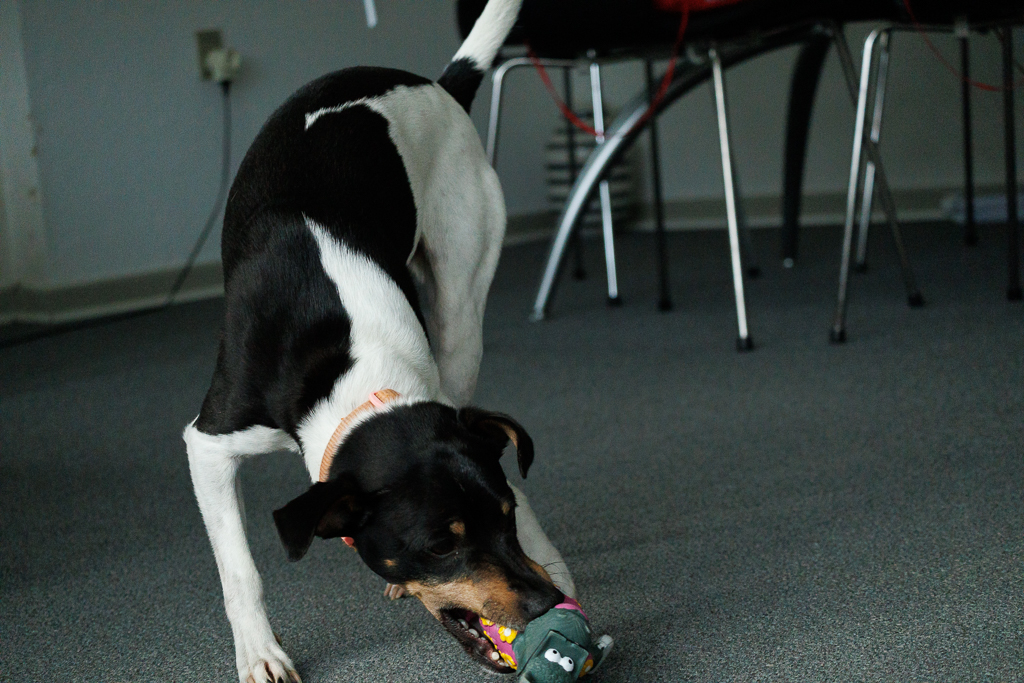Dog: (173, 0, 590, 683)
Humanoid: (466, 580, 626, 683)
